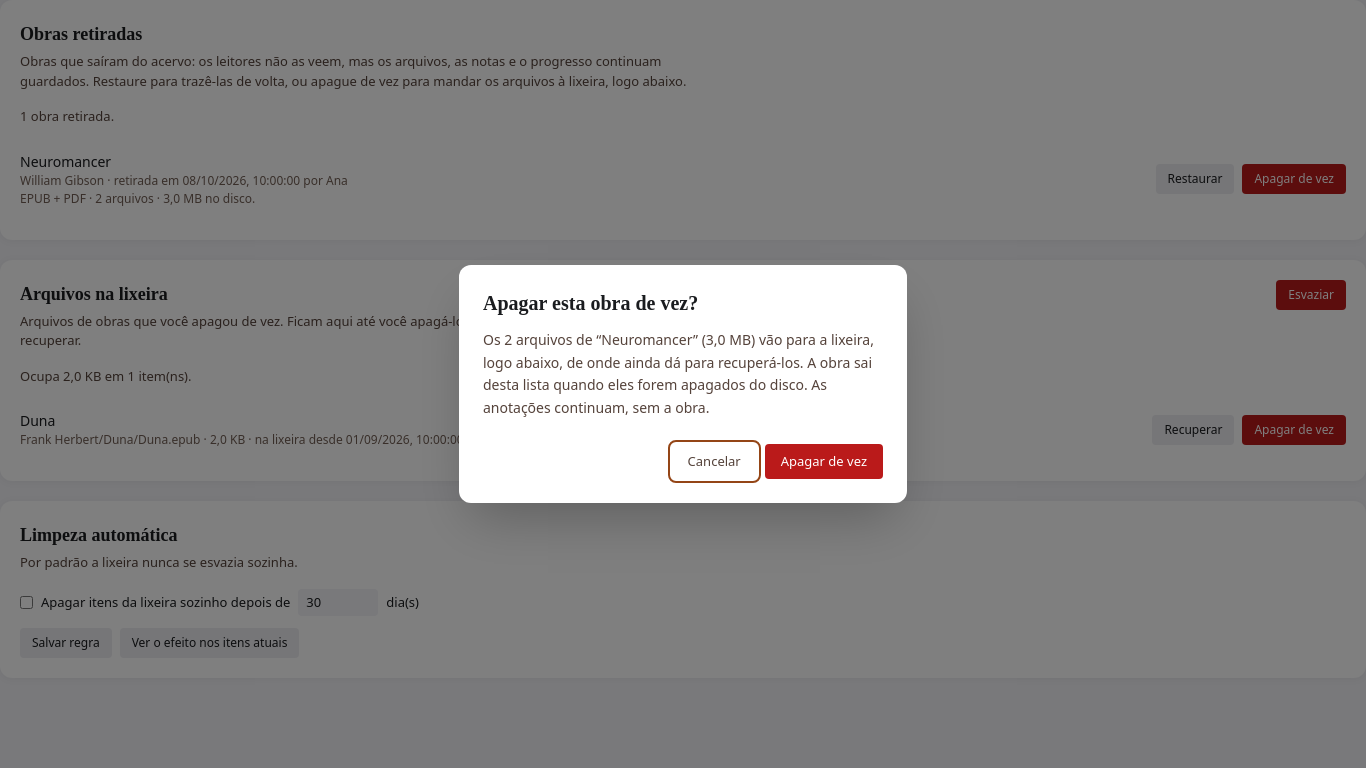
it: TrashTab: the works that were retired (#89) › says what happened after deleting for good: the files went to the trash, or the work is gone
Click the button "Apagar de vez" at point(824, 462), box x1=765 y1=444 x2=883 y2=479
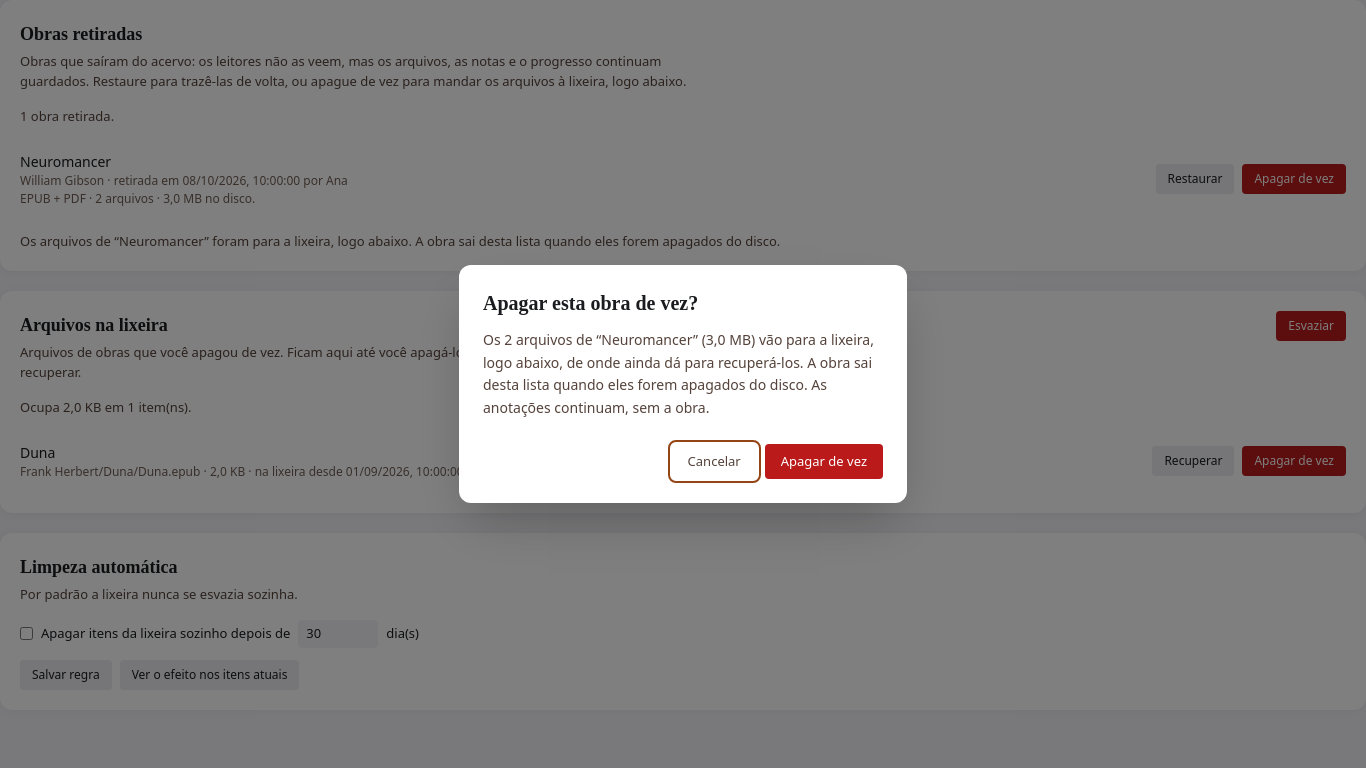
Expected: the message shows "Os arquivos de “Neuromancer” foram para a lixeira, logo abaixo.", x1=20 y1=232 x2=780 y2=250
Expected: the message shows "quando eles forem apagados do disco", x1=20 y1=232 x2=780 y2=250
Click the button "Apagar de vez" at point(824, 462), box x1=765 y1=444 x2=883 y2=479
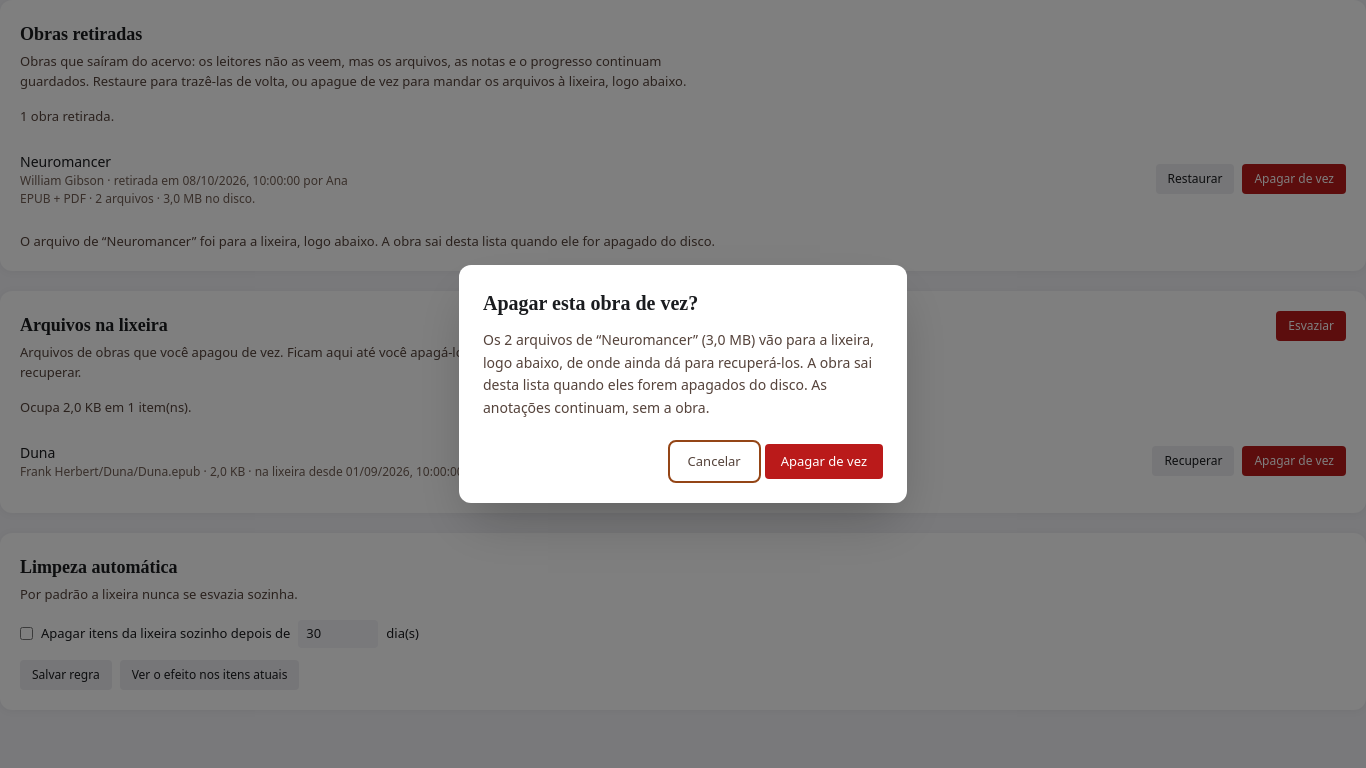
Expected: the message shows "O arquivo de “Neuromancer” foi para a lixeira, logo abaixo. A obra sai desta lista quando ele for apagado do disco.", x1=20 y1=232 x2=715 y2=250
Click the button "Apagar de vez" at point(824, 462), box x1=765 y1=444 x2=883 y2=479
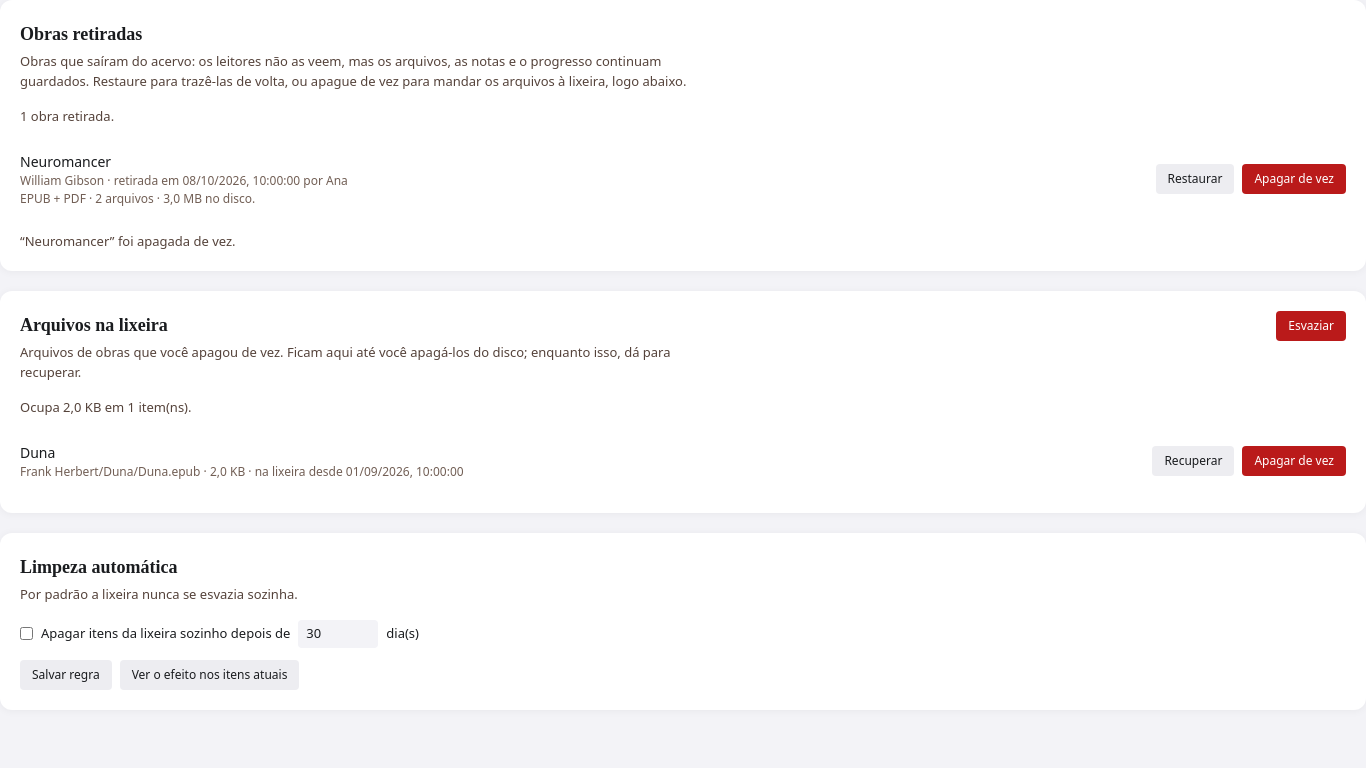
Expected: the message "“Neuromancer” foi apagada de vez." is shown, x1=20 y1=232 x2=236 y2=250
